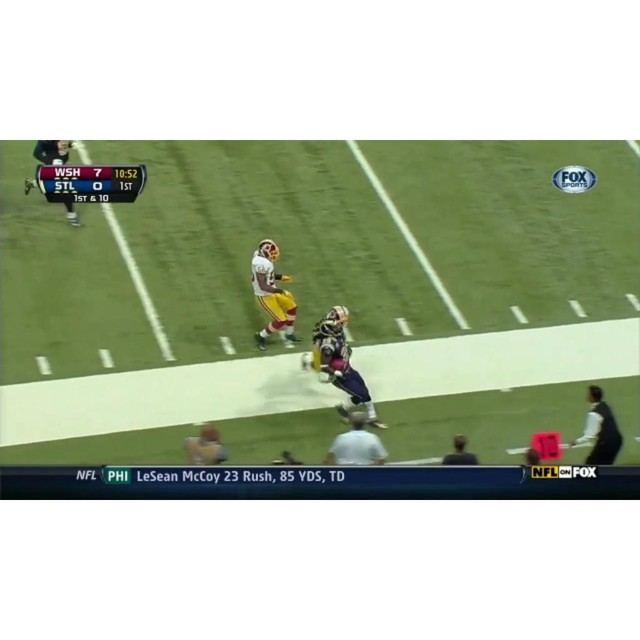american-football-player: (307, 332, 391, 427), (248, 240, 301, 350), (28, 140, 85, 228), (306, 304, 352, 373)
